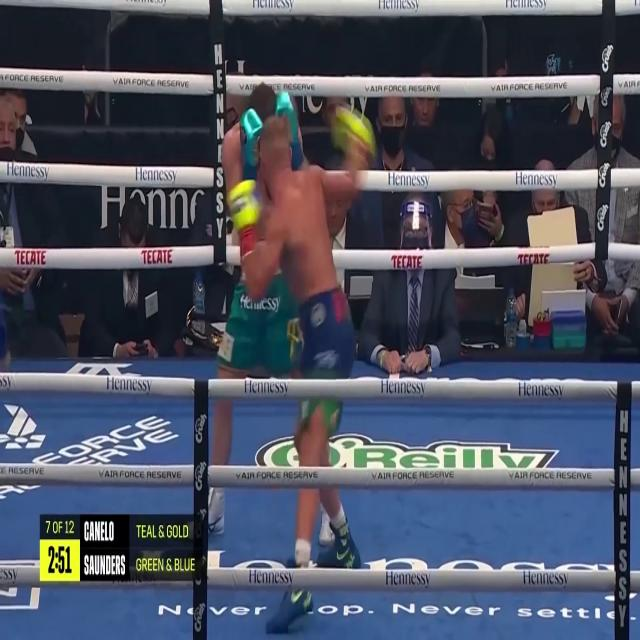boxer_1: (260, 117, 337, 300)
boxer_2: (250, 85, 277, 120), (258, 180, 272, 235)
gloves_1: (332, 107, 373, 170), (229, 180, 260, 257)
gloves_2: (275, 89, 302, 171), (240, 108, 263, 181)
